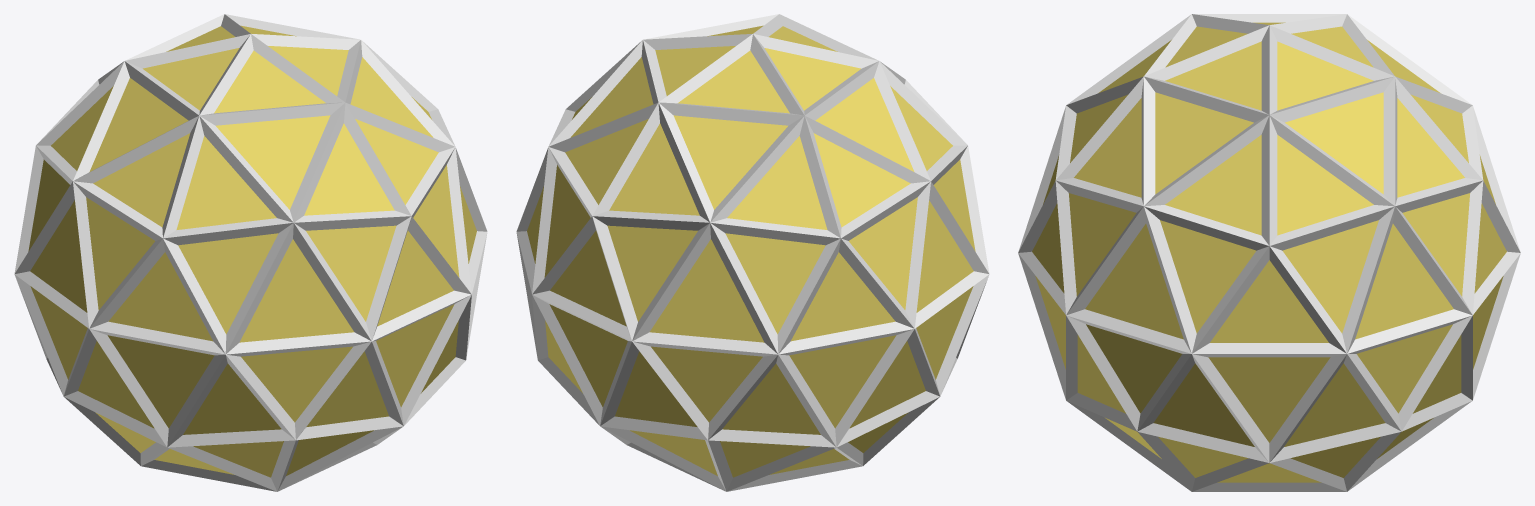
Rendered from ChiaveSfera.fbx.
The picture shows the model from 3 angles, left to right: view 1: azimuth 30°, elevation 25°; view 2: azimuth 150°, elevation 25°; view 3: azimuth 270°, elevation 25°; orthographic projection. The views are drawn at different scales.
Parts seen in each view (by area): view 1: ChiaveSfera; view 2: ChiaveSfera; view 3: ChiaveSfera.
Part boxes in pixels (<box>): ChiaveSfera: <box>14,14,487,491</box>; ChiaveSfera: <box>516,14,989,491</box>; ChiaveSfera: <box>1018,14,1520,491</box>.
Bounding box in the file's own units: 29.48 × 31 × 31.
